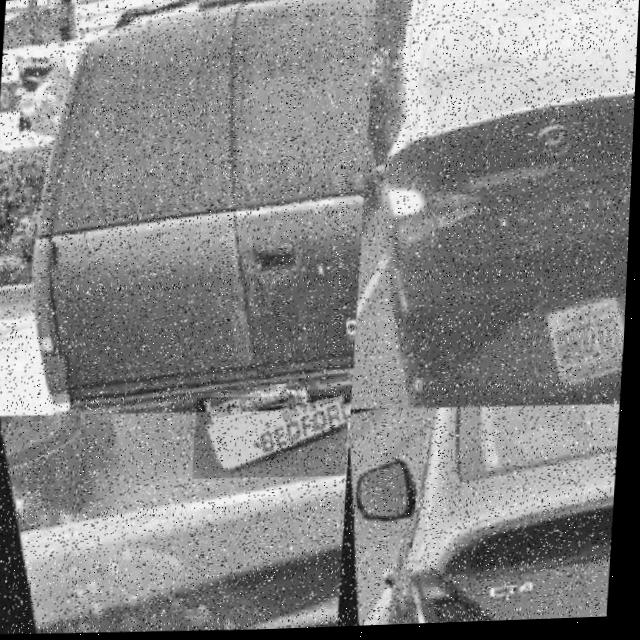LicensePlate: (199, 397, 352, 480), (537, 302, 625, 397), (214, 386, 291, 419)
